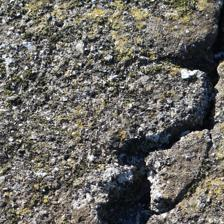Crack: (53, 54, 165, 160), (6, 19, 106, 135), (82, 2, 139, 117)
